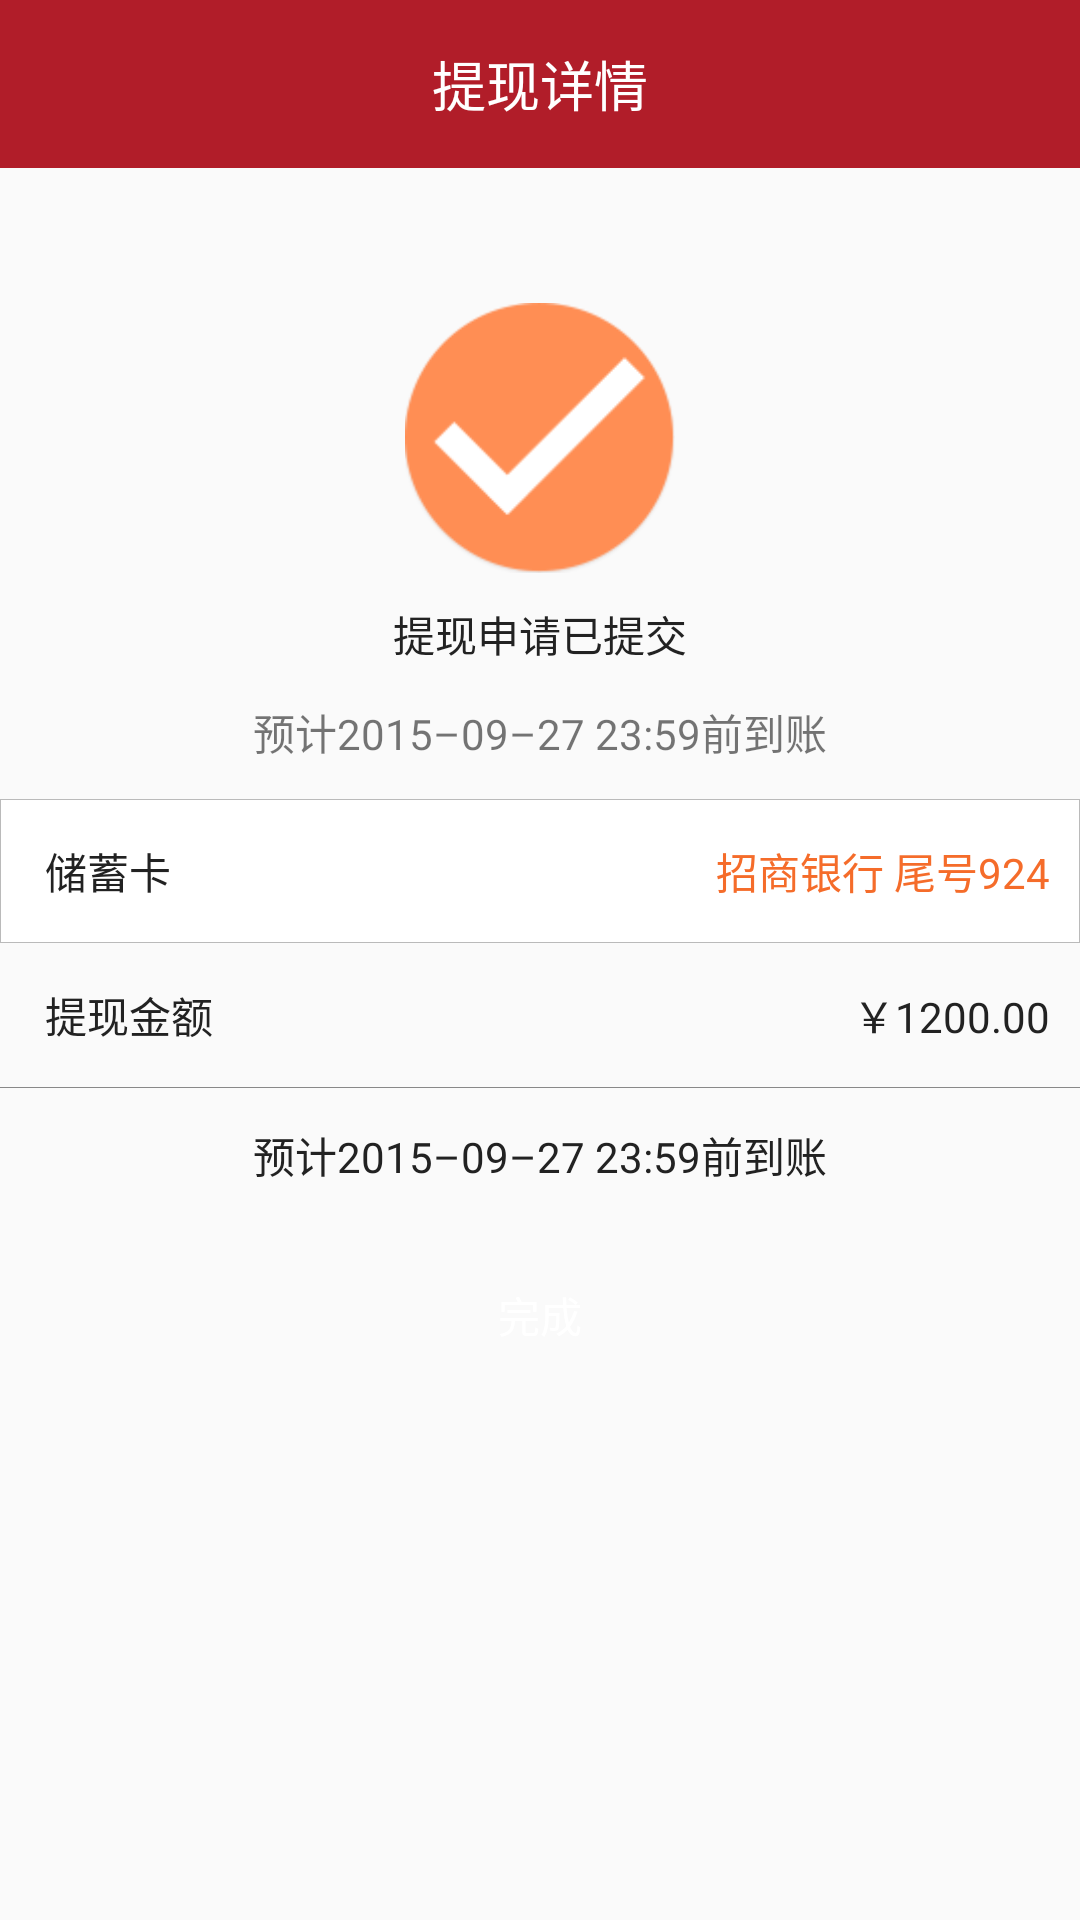

Icons on this 1080*1920 Android screen, each with its box as (x1,y1,x2,y2):
certain: (405,303,674,573)
